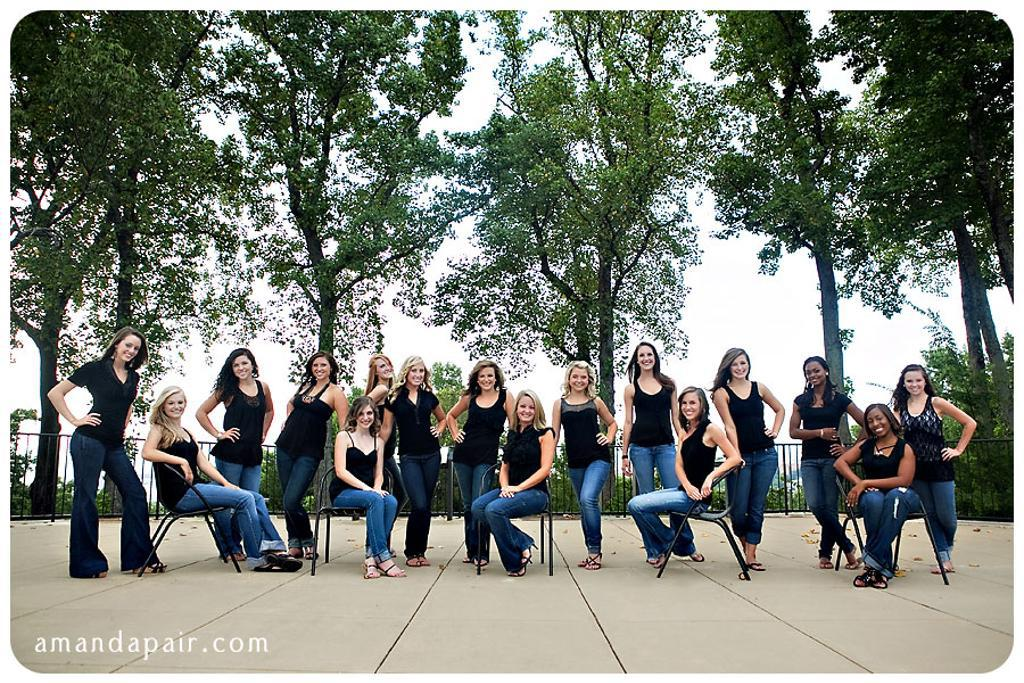face: (868, 408, 891, 438), (119, 334, 142, 363), (164, 393, 186, 419), (904, 370, 926, 396), (231, 357, 252, 382), (682, 394, 702, 420), (730, 354, 750, 378), (806, 361, 826, 385), (570, 368, 589, 391), (357, 405, 375, 429), (313, 357, 331, 379), (519, 397, 536, 420), (638, 346, 655, 369), (410, 363, 425, 389), (375, 358, 393, 378), (479, 368, 495, 390)
